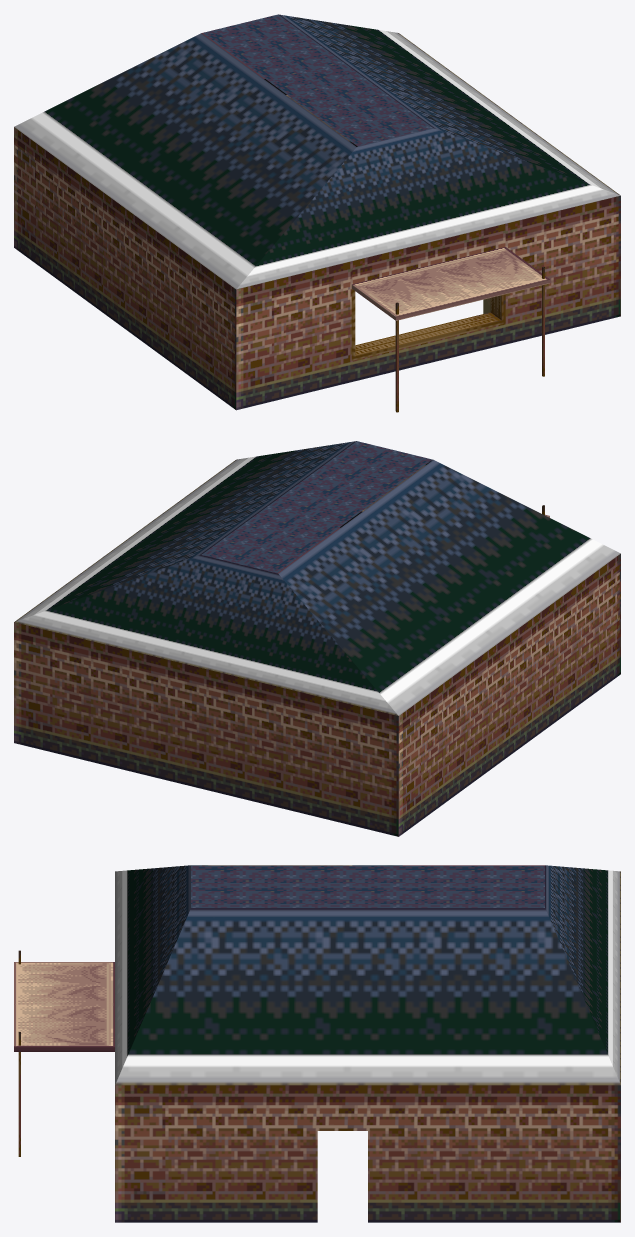
Rendered from Brick_Room_10x10_single_door_window.fbx.
The picture shows the model from 3 angles, top to bottom: view 1: azimuth 30°, elevation 25°; view 2: azimuth 150°, elevation 25°; view 3: azimuth 270°, elevation 25°; orthographic projection. The views are drawn at different scales.
Visible parts, largest first — view 1: Cube.002, Cube, Cube.004, Cube.003, Cube.007, Cube.001, Cube.005; view 2: Cube.002, Cube; view 3: Cube.002, Cube, Cube.004.
Part boxes in pixels (x1=…): Cube.002: x1=14, y1=14, x2=620, y2=289; Cube: x1=14, y1=127, x2=620, y2=410; Cube.004: x1=351, y1=247, x2=549, y2=320; Cube.003: x1=351, y1=224, x2=505, y2=284; Cube.007: x1=351, y1=323, x2=505, y2=381; Cube.001: x1=351, y1=289, x2=505, y2=360; Cube.005: x1=395, y1=267, x2=544, y2=412; Cube.002: x1=14, y1=441, x2=620, y2=715; Cube: x1=14, y1=554, x2=620, y2=836; Cube.002: x1=115, y1=865, x2=620, y2=1085; Cube: x1=115, y1=1085, x2=620, y2=1222; Cube.004: x1=14, y1=962, x2=114, y2=1051.
Size of the model in its own units: 1000 by 500 by 1200.
